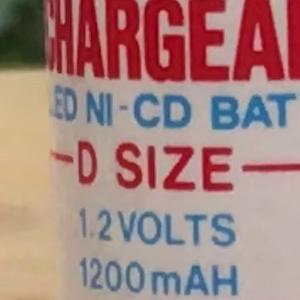NI-CD: (63, 84, 201, 131)
